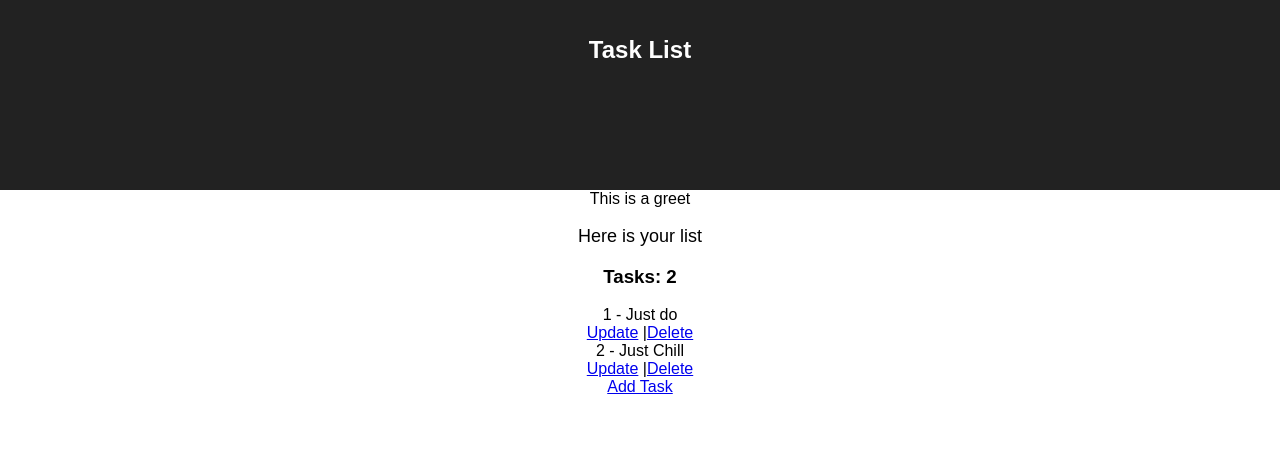
Test: Add Task List › Adds new task when writing text and clicking the button
Expected: the number of elements with class "Task" is 2, [587,306,693,341]; [587,342,693,377]
Click the link "Add Task": (640, 387) [607,378,673,395]
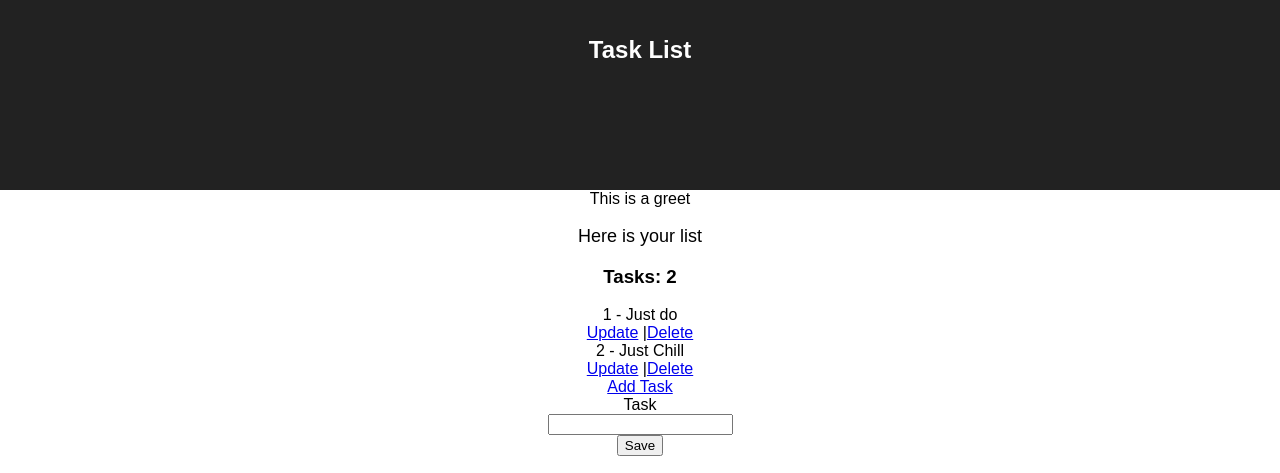
In the field: (641, 425) [548,414,733,435], type "Do exercise"
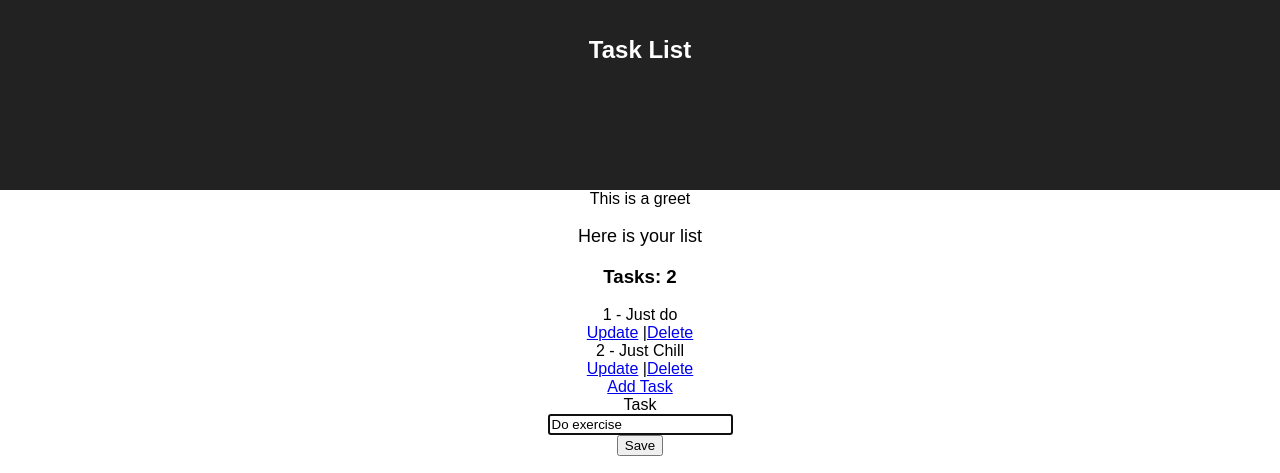
Click the button "Save": (640, 446) [617,435,663,456]
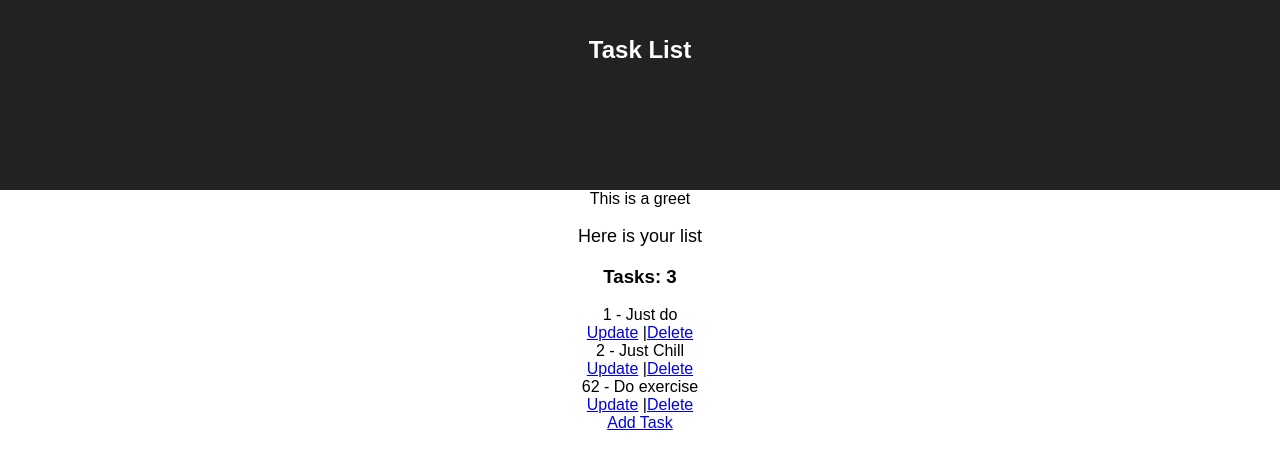
Now the number of elements with class "Task" is 3, box [587,306,693,341]; [587,342,693,377]; [582,378,698,413]
Now the text with class "Task-data" shows "Do exercise", box [582,378,699,395]
